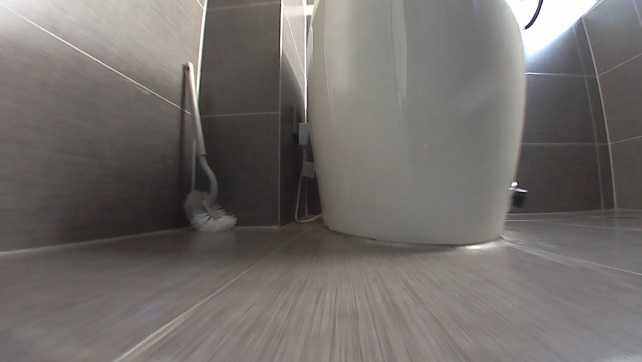toilet: (303, 0, 529, 250)
wire: (291, 175, 320, 224)
